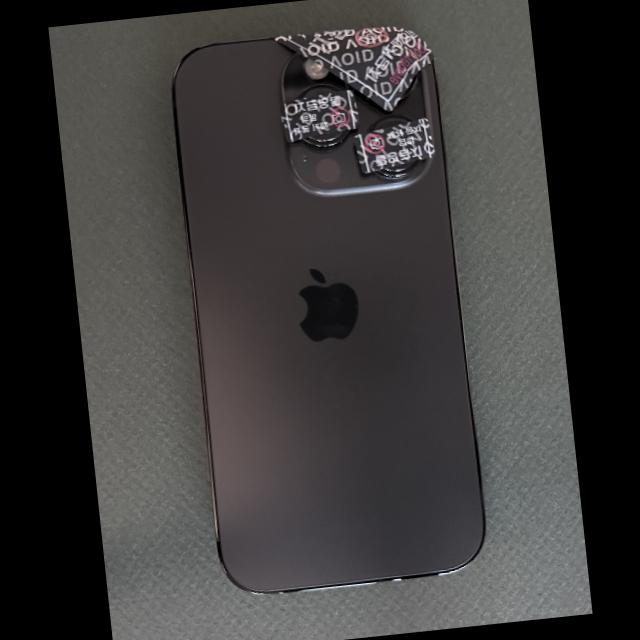lens: (374, 159, 420, 179), (302, 130, 346, 146), (399, 74, 416, 98)
phone: (170, 25, 487, 596)
sticker: (269, 25, 434, 111), (352, 117, 435, 174), (279, 89, 358, 142)
